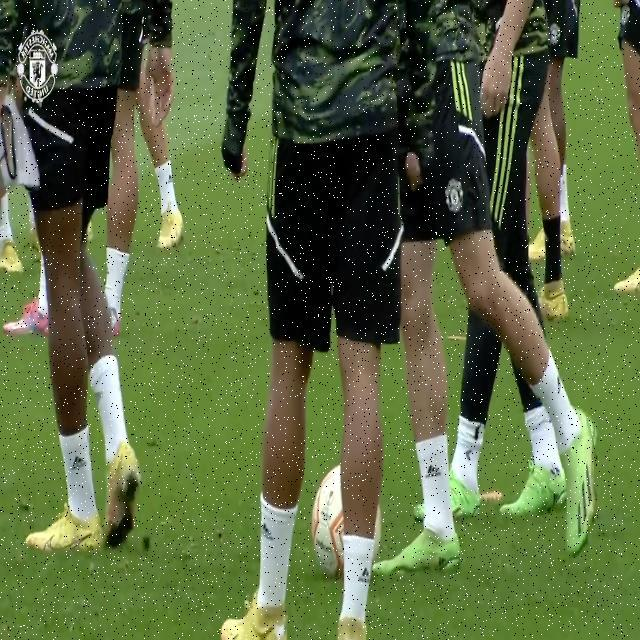Adidas: (357, 561, 371, 585), (70, 454, 86, 474), (260, 520, 274, 542), (425, 461, 441, 479)
